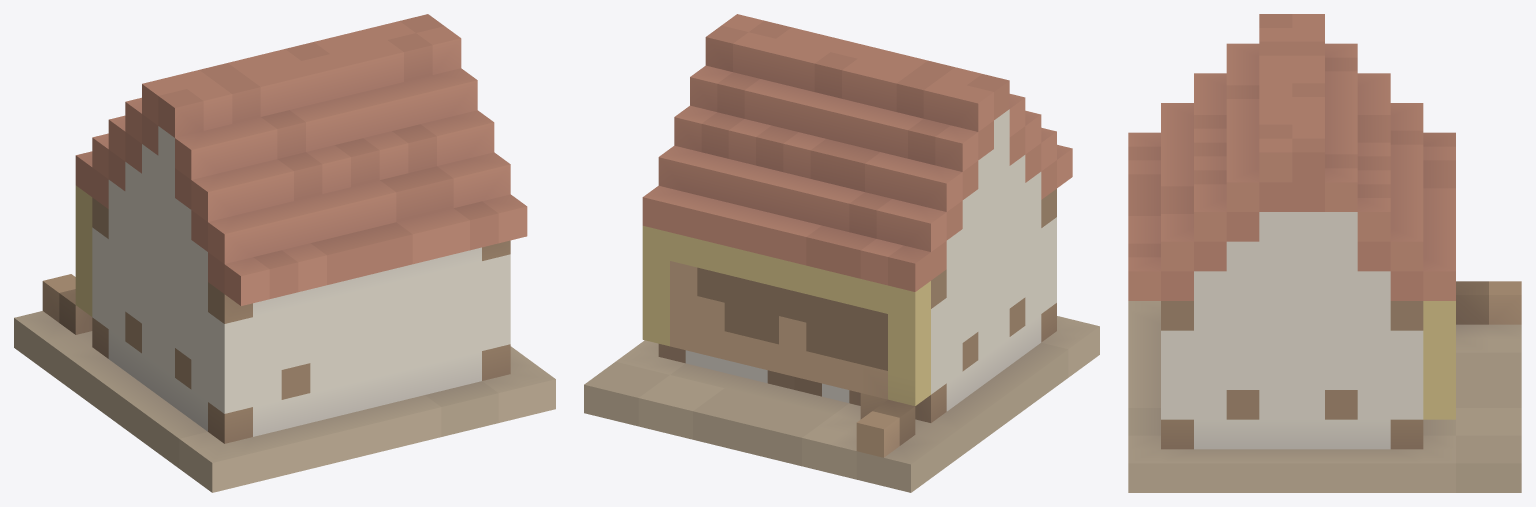
Rendered from house_citizens.lite.glb.
3 views of the same model, side by side, from view 1: azimuth 30°, elevation 25°; view 2: azimuth 150°, elevation 25°; view 3: azimuth 270°, elevation 25° (orthographic). The views are drawn at different scales.
Parts seen in each view (by area): view 1: house_citizens; view 2: house_citizens; view 3: house_citizens.
Part boxes in pixels (x1,y1,x2,y2): house_citizens: (14, 14, 555, 492); house_citizens: (584, 14, 1099, 492); house_citizens: (1128, 14, 1521, 492).
Bounding box in the file's own units: 3 × 2.75 × 3.
